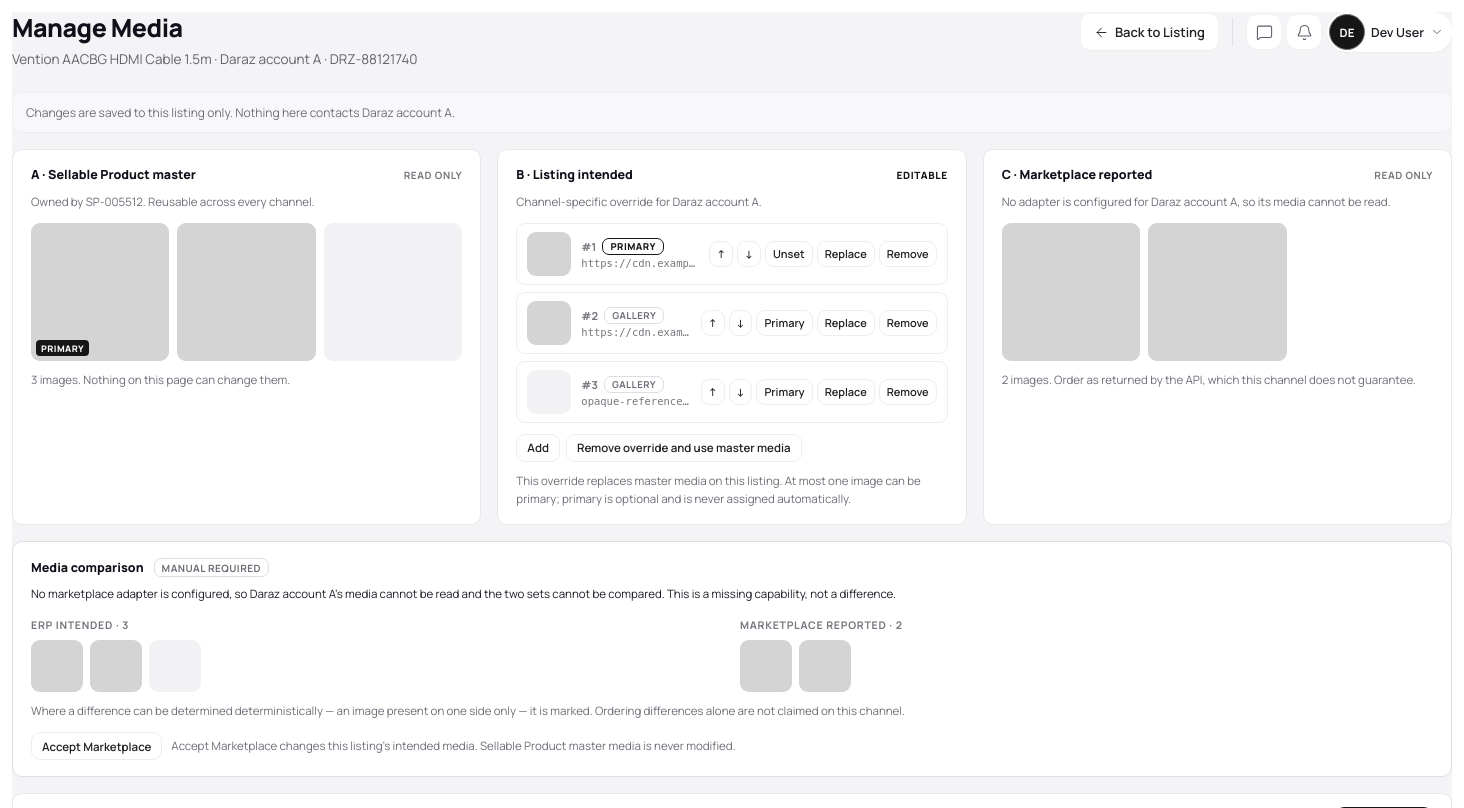
Frame 13 — primary and order › allows at most one primary and lets it be cleared
Expected: the element with test id "media-master" is shown, left=12, top=149, right=481, bottom=525
Expected: the text with test id "media-item-role-0" reads "PRIMARY", left=610, top=240, right=656, bottom=253
What coordinates should you click on to do the following:
click the button with test id "media-primary-1"
I would click on:
 (785, 323)
Its box is left=756, top=310, right=813, bottom=336.
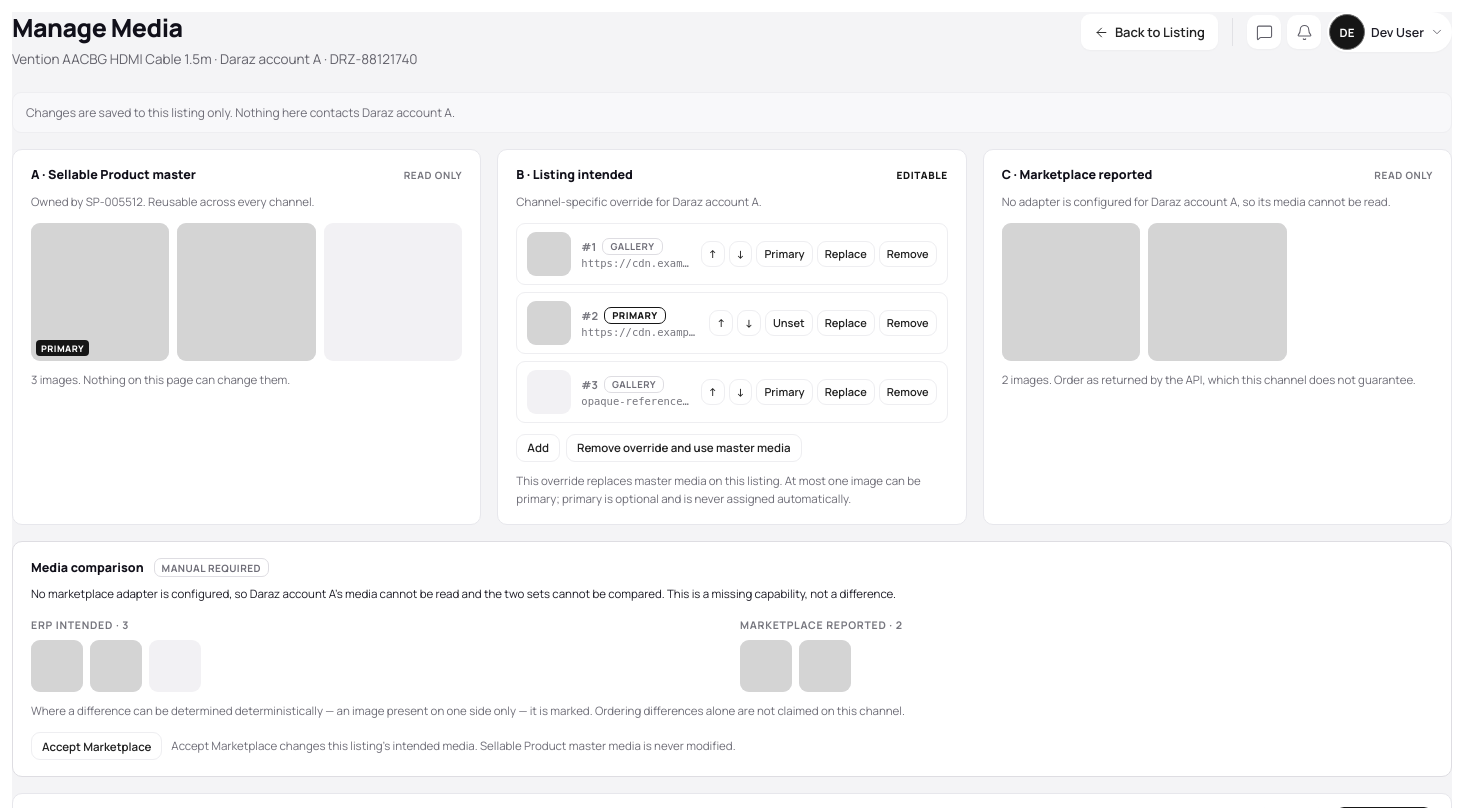
Result: the text with test id "media-item-role-0" reads "GALLERY" at left=610, top=240, right=654, bottom=253
Result: the text with test id "media-item-role-1" reads "PRIMARY" at left=612, top=309, right=658, bottom=322
What coordinates should you click on to do the following:
click the button with test id "media-primary-1"
I would click on:
 (789, 323)
Its box is left=765, top=310, right=813, bottom=336.
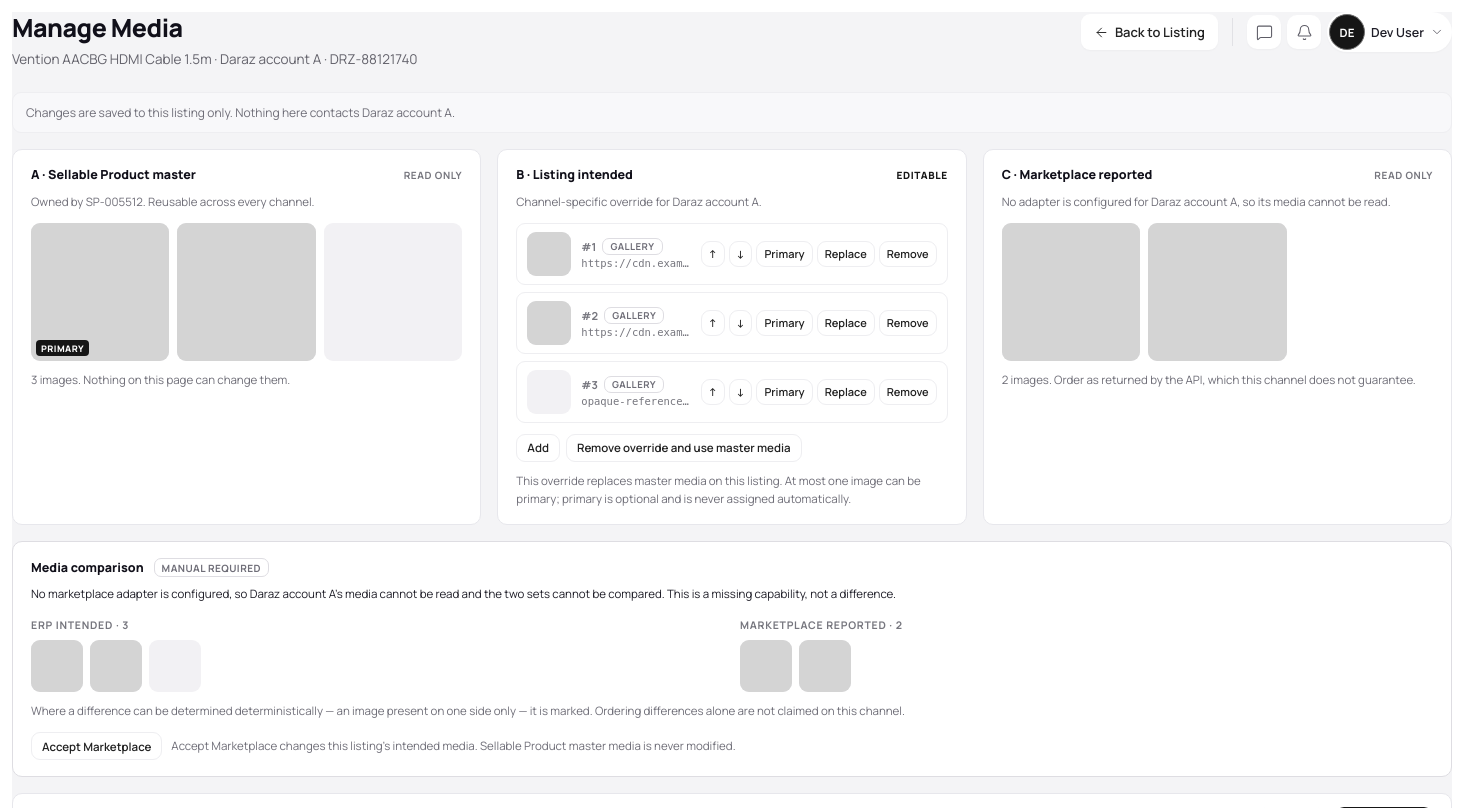
Result: the text with test id "media-item-role-0" reads "GALLERY" at left=610, top=240, right=654, bottom=253
Result: the text with test id "media-item-role-1" reads "GALLERY" at left=612, top=309, right=656, bottom=322
